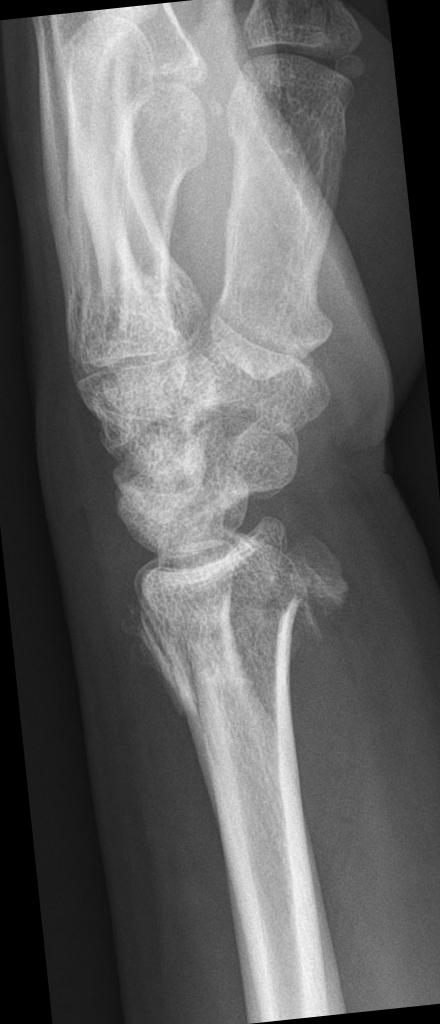line: (224, 538, 314, 724), (134, 602, 214, 722)
